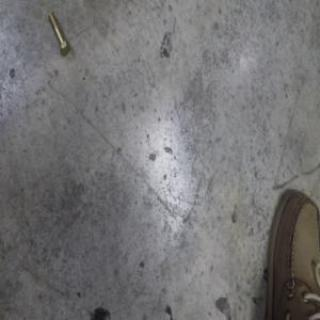Bolttrack_idkeyframe: (48, 10, 71, 56)
